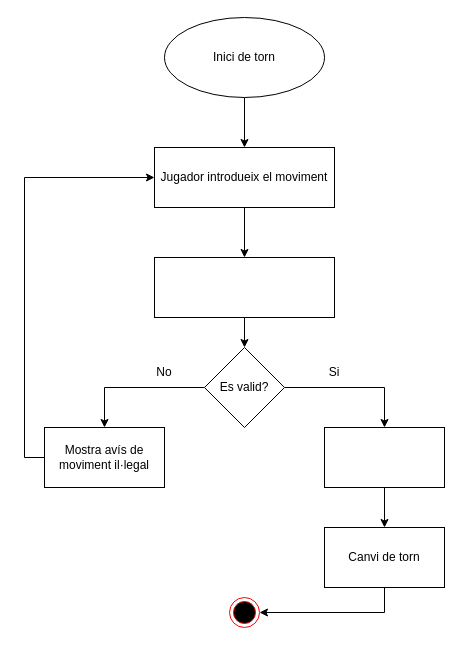
Image size: 462x645. Some labels were removed from this diagram. Each missing label, with the centre of its shape:
Es mou la peça: the point at 384,457
Programa valida el moviment: the point at 244,287
